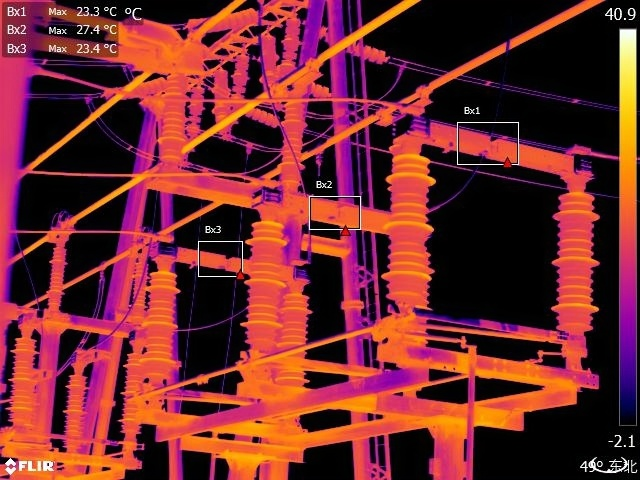clamp: (77, 88, 97, 106), (393, 55, 411, 74), (244, 132, 257, 147)
insulator: (303, 14, 390, 67), (103, 73, 170, 102), (212, 72, 233, 141), (230, 51, 251, 118), (246, 101, 279, 133), (282, 14, 299, 75), (190, 85, 206, 147), (260, 31, 279, 78)
post insulator: (380, 149, 436, 307), (542, 194, 604, 333), (237, 213, 290, 362), (134, 273, 183, 384), (273, 287, 311, 386), (1, 333, 41, 424), (157, 67, 186, 168), (61, 370, 91, 443), (119, 347, 140, 437), (44, 242, 70, 308)
switch: (390, 111, 599, 195), (151, 238, 329, 305), (13, 300, 146, 352)
